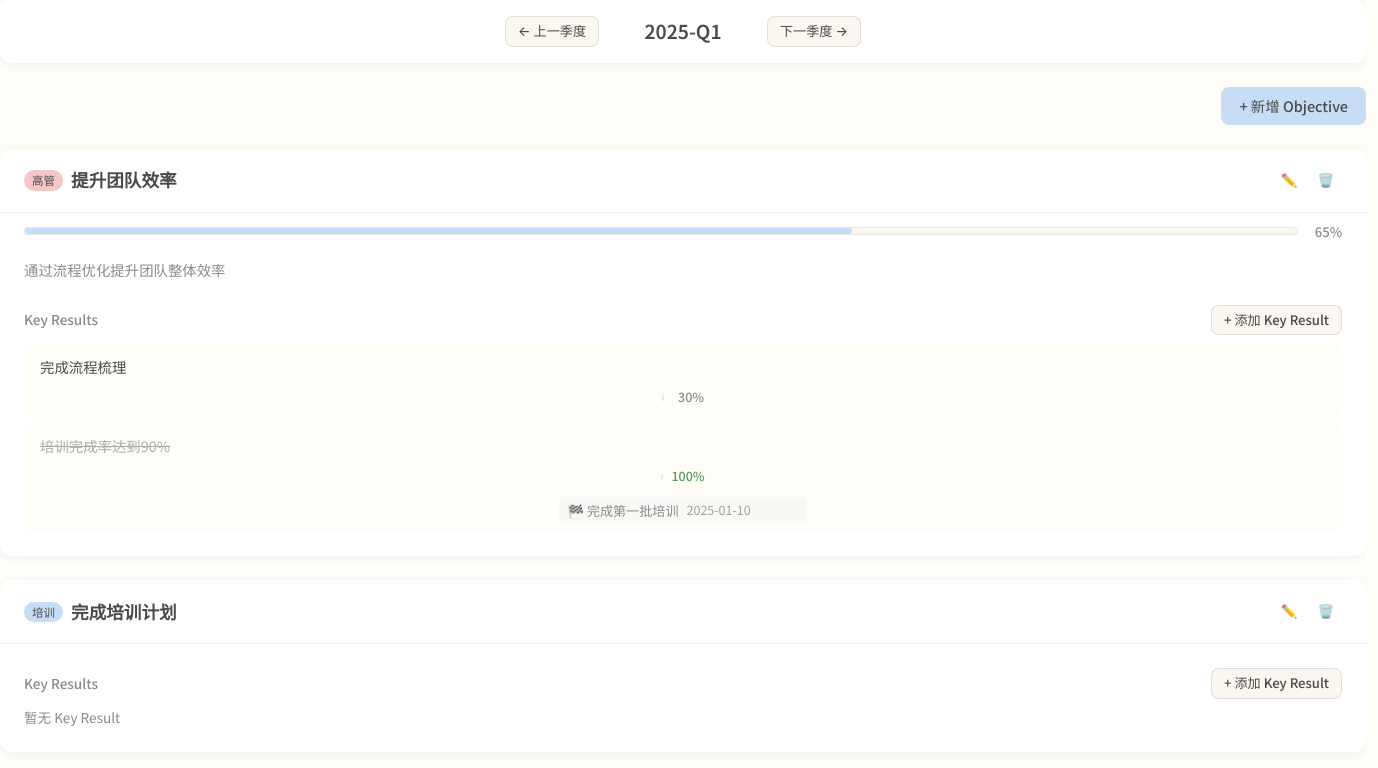
Test: OKRPage › navigates to previous quarter
This screenshot has width=1378, height=768.
expect the text "2025-Q1" is shown: met, box x1=644 y1=17 x2=722 y2=45
Step 1. Click the button "← 上一季度" → [552, 31], box x1=505 y1=16 x2=599 y2=47
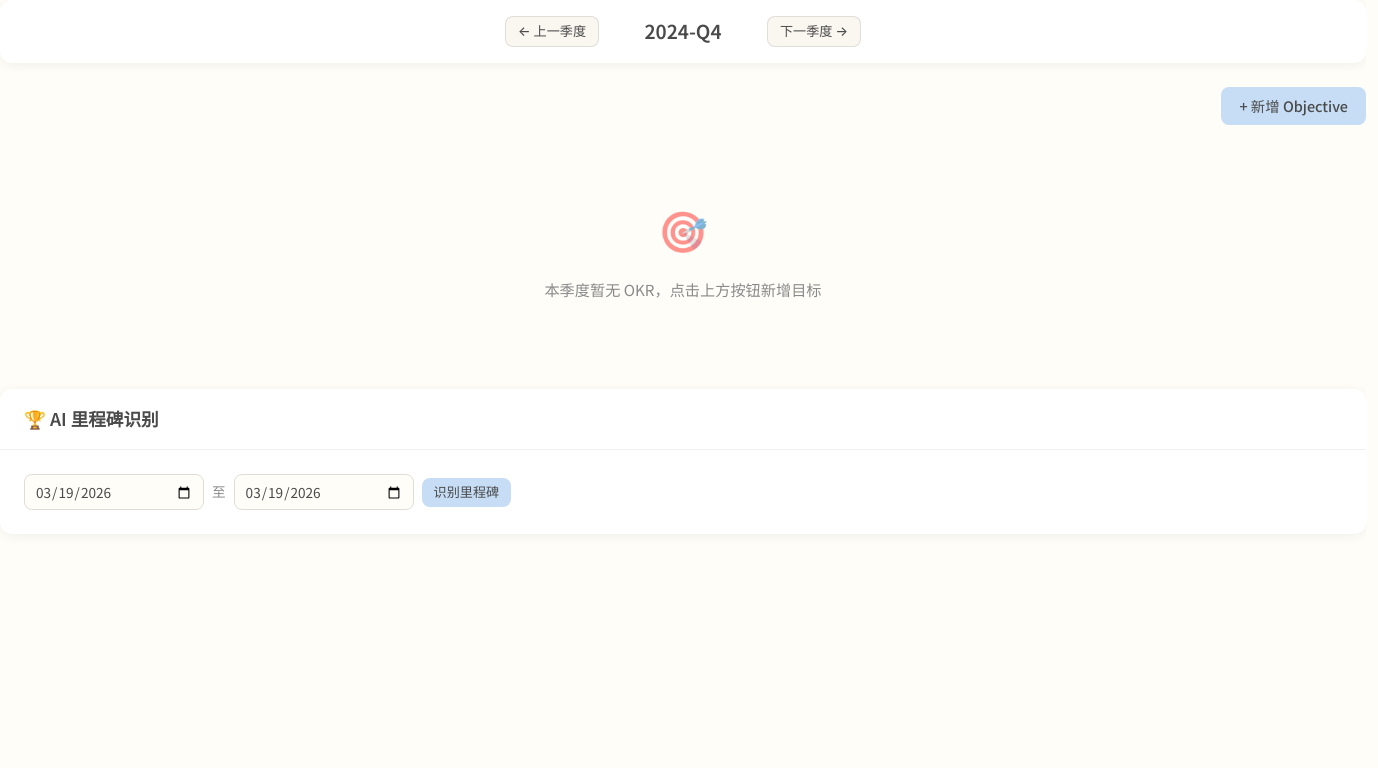
expect the text "2024-Q4" is shown: met, box x1=644 y1=17 x2=722 y2=45
